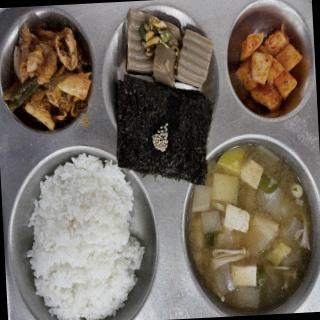Nasi: (27, 156, 132, 319)
